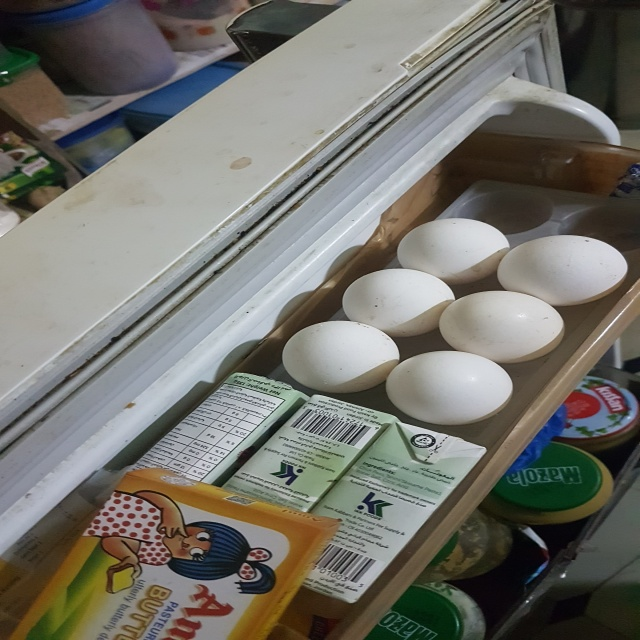butter: (1, 468, 341, 636)
eggs: (382, 352, 521, 440), (438, 288, 575, 368), (494, 227, 630, 304), (279, 316, 404, 393), (336, 265, 465, 336), (395, 219, 525, 286)
